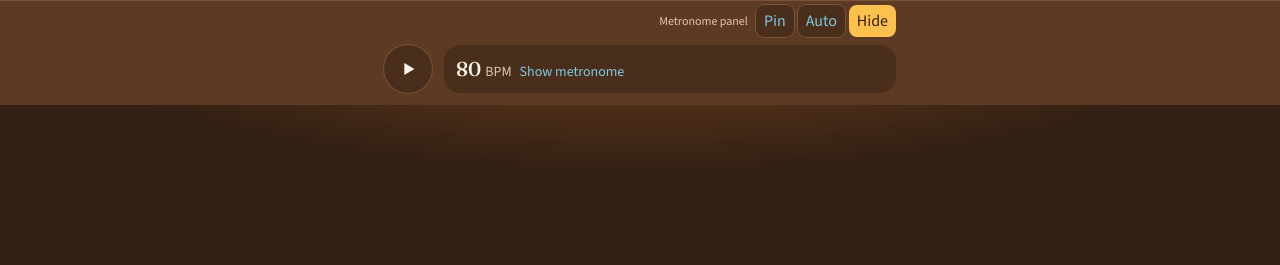
Test: transport bar display modes › switches to pinned when Pin is selected
What coordinates should you click on to do the following:
click the button with aria-label "Keep metronome open"
I would click on:
 (775, 21)
Its box is [756,5,794,37].
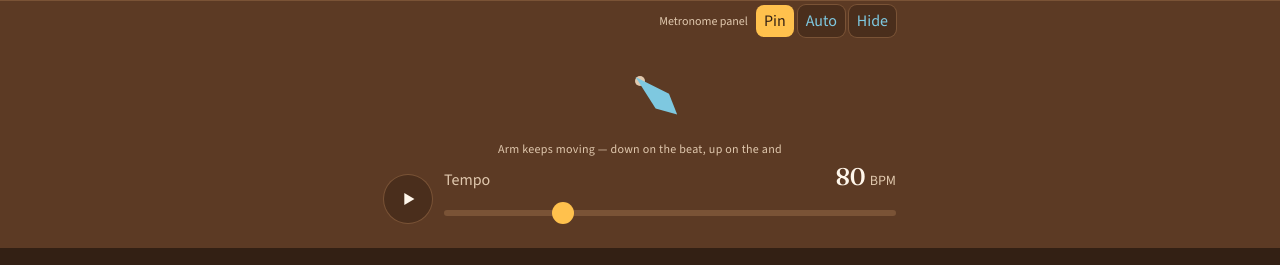
Now the text "Arm keeps moving — down on the beat, up on the and" is shown, box [498,141,782,157]
